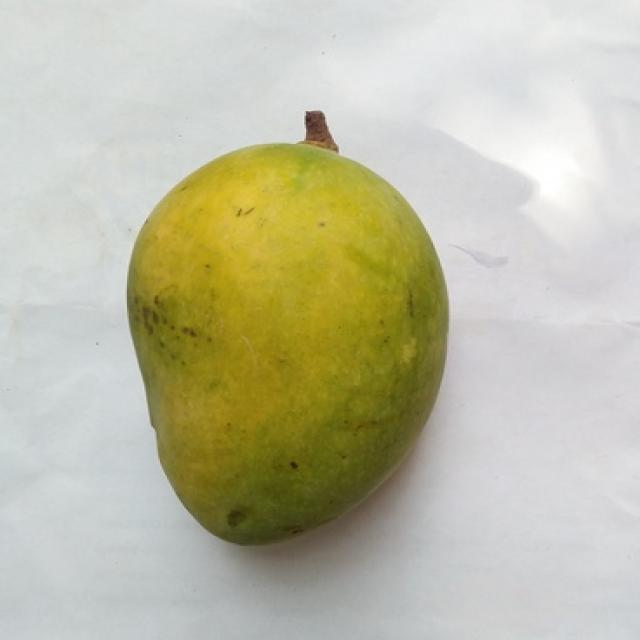Mango: (127, 113, 447, 543)
